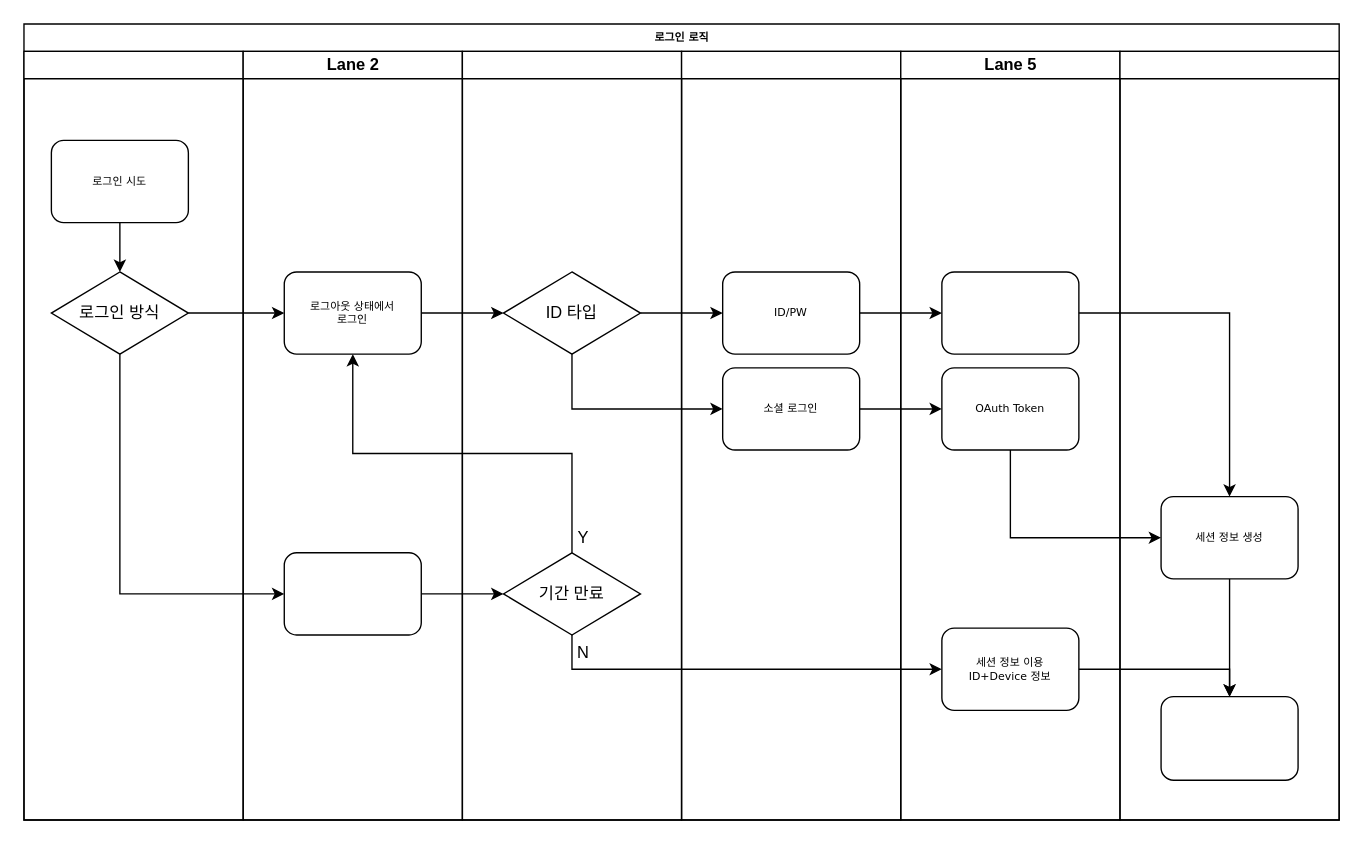
Some shapes in this 1363 by 844 pixel diagram are drawn without their labels. Here are the shapes that lost their labels. From the top down, the box of each, then its label:
(941, 271, 1079, 354): PW + Salt
(23, 50, 243, 820): Lane 1
(461, 50, 682, 820): Lane 3
(680, 50, 901, 820): Lane 4
(1119, 50, 1339, 820): Lane 6
(283, 551, 421, 635): 세션 정보가 기록된 상태에서 로그인
(1160, 695, 1298, 780): 로그인 성공
